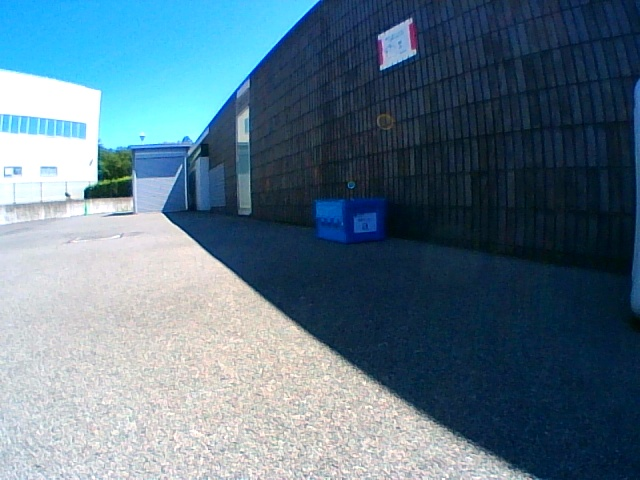blue_box: (315, 198, 385, 242)
tag: (356, 215, 375, 232)
